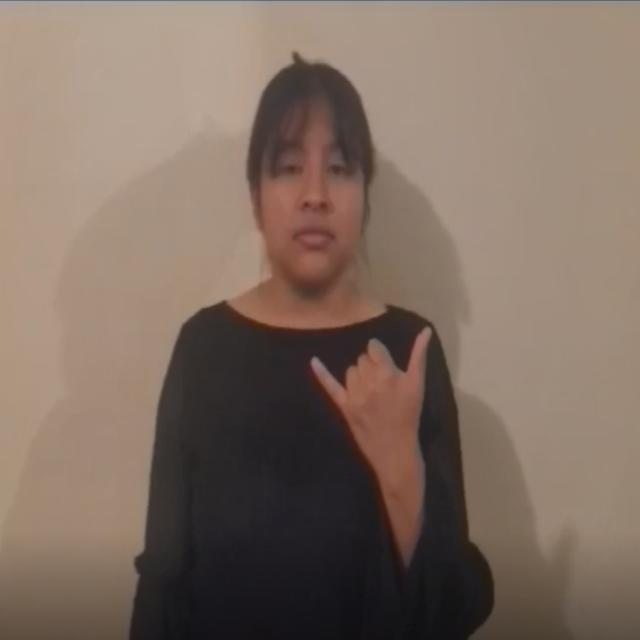Y: (296, 302, 452, 510)
